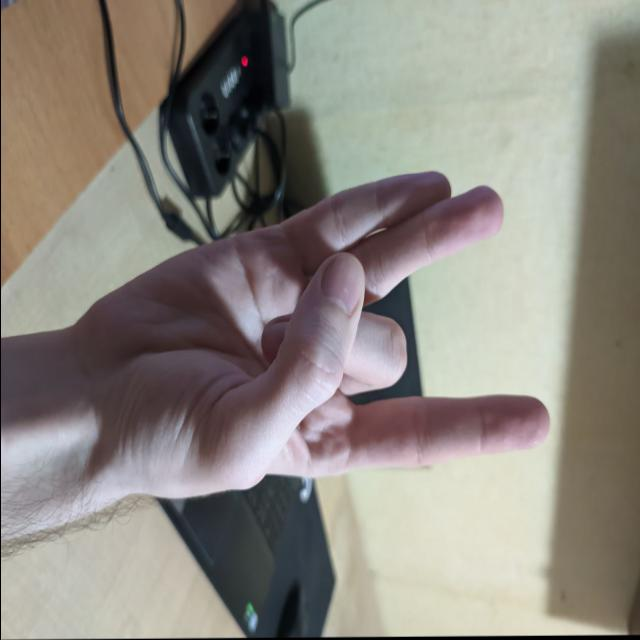r: (95, 108, 580, 584)
